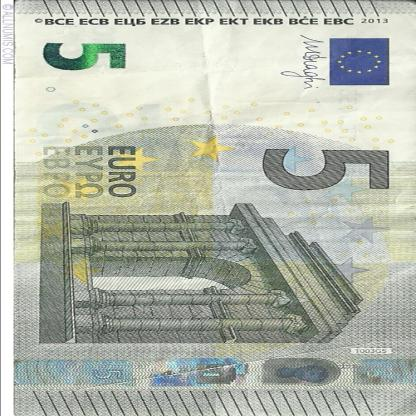euro_banknote: (7, 7, 416, 411)
